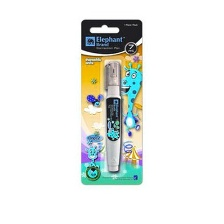book: (76, 16, 145, 188)
correction_fluid: (101, 58, 123, 173)
